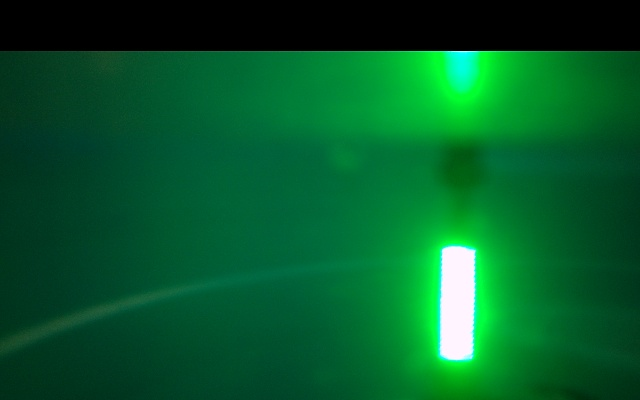green: (439, 238, 475, 374)
